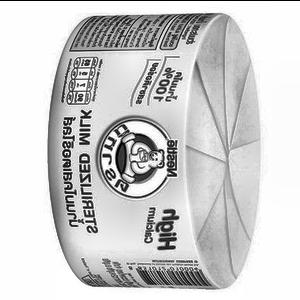can: (39, 10, 271, 290)
